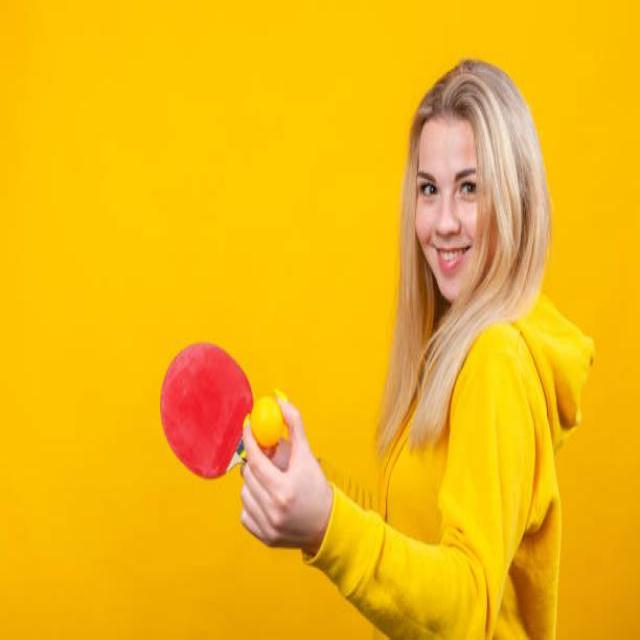ping-pong-ball: (250, 397, 284, 446)
